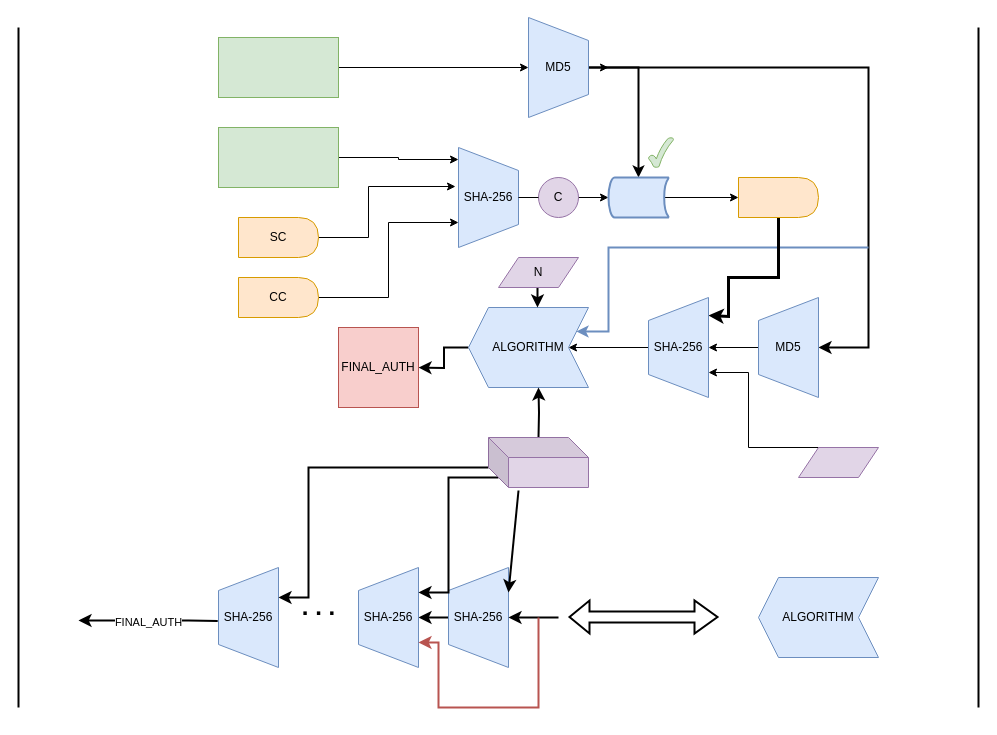
Image size: 997x735. Some labels were removed from this diagram. Here are the shapes that lost their labels. From the top down, the centre of each, then its label:
At (x=278, y=67): "PASSWORD".
At (x=278, y=157): "USERNAME".
At (x=638, y=197): "AES".
At (x=778, y=197): "R U".
At (x=538, y=462): "MAGIC_N".
At (x=838, y=462): "M1".
